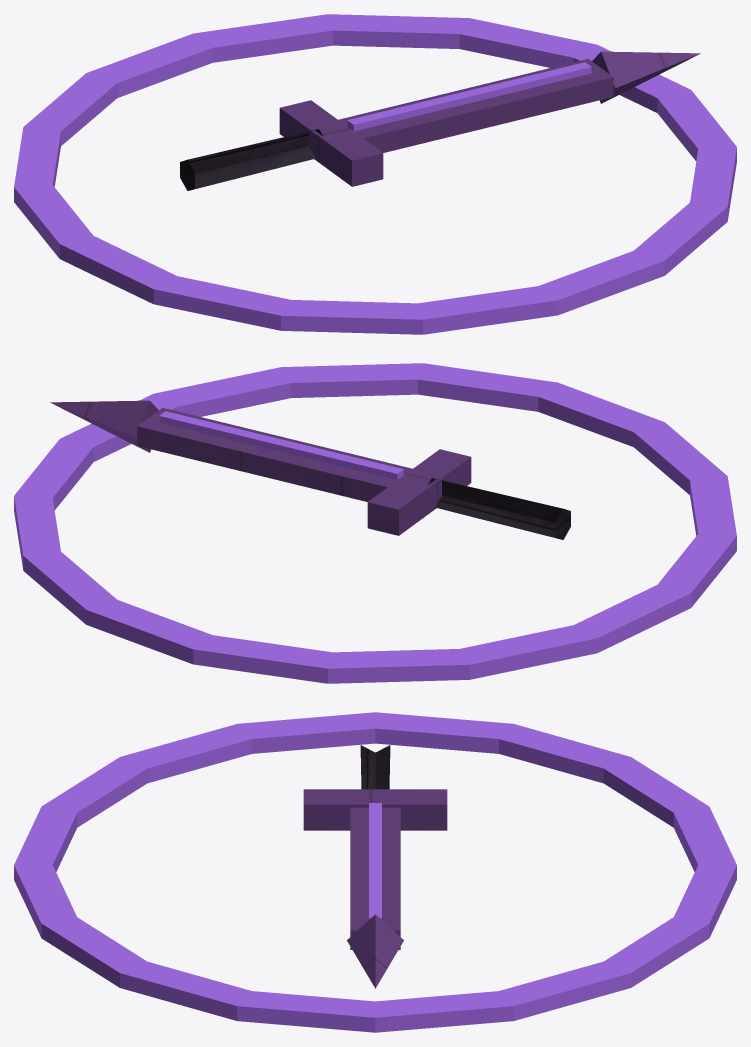
The model's file is loot_dagger_g2.glb.
3 renders of one model, top to bottom at view 1: azimuth 30°, elevation 25°; view 2: azimuth 150°, elevation 25°; view 3: azimuth 270°, elevation 25°, orthographic.
Visible parts, largest first — view 1: loot_dagger_g2; view 2: loot_dagger_g2; view 3: loot_dagger_g2.
Boxes of the visible parts, x1,y1,x2,y2 form: loot_dagger_g2: (14,14,736,334); loot_dagger_g2: (14,363,736,683); loot_dagger_g2: (14,712,736,1032).
Bounding box in the file's own units: 1.02 × 0.115 × 1.01.
3 materials, 2 textured.
